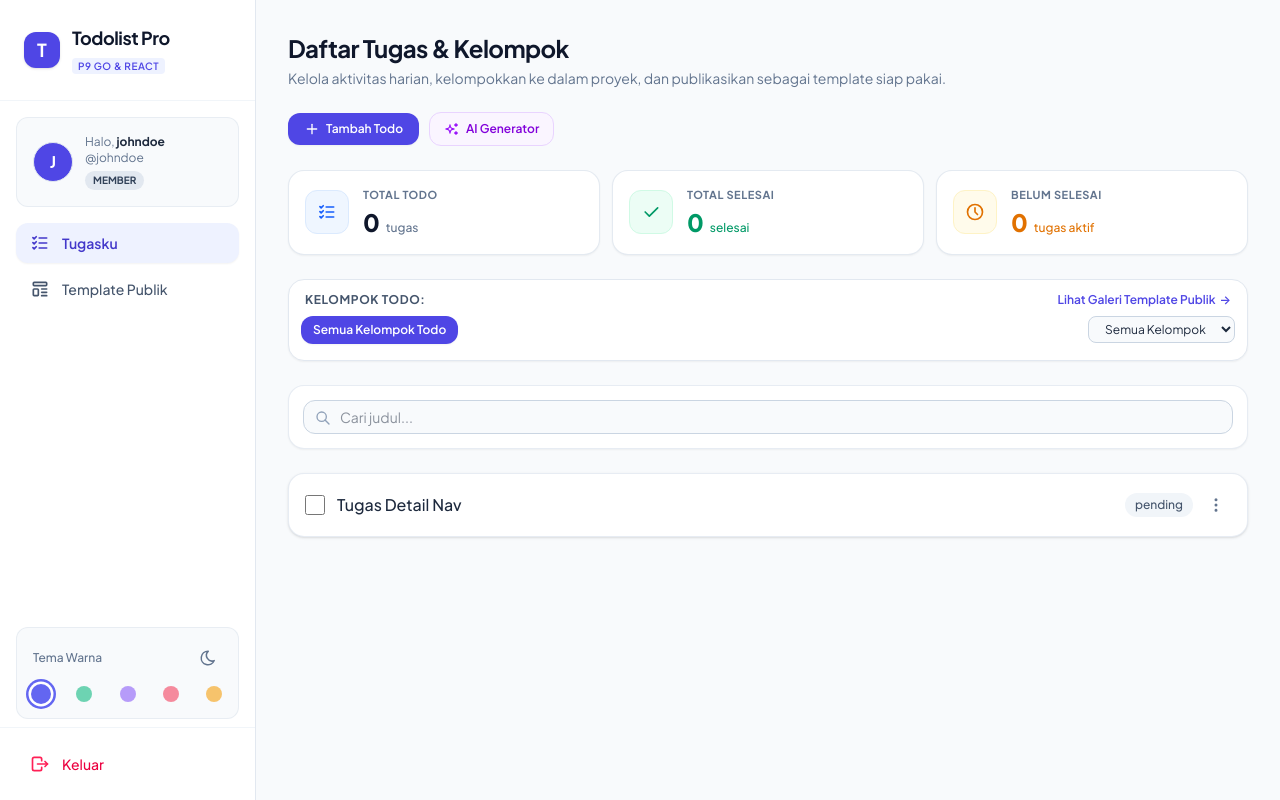
Scenario: App Integration › navigates away from detail page when clicking menu tabs
// Open detail
Click the text "Tugas Detail Nav". click: (399, 504)
box: 337,494 -> 462,514
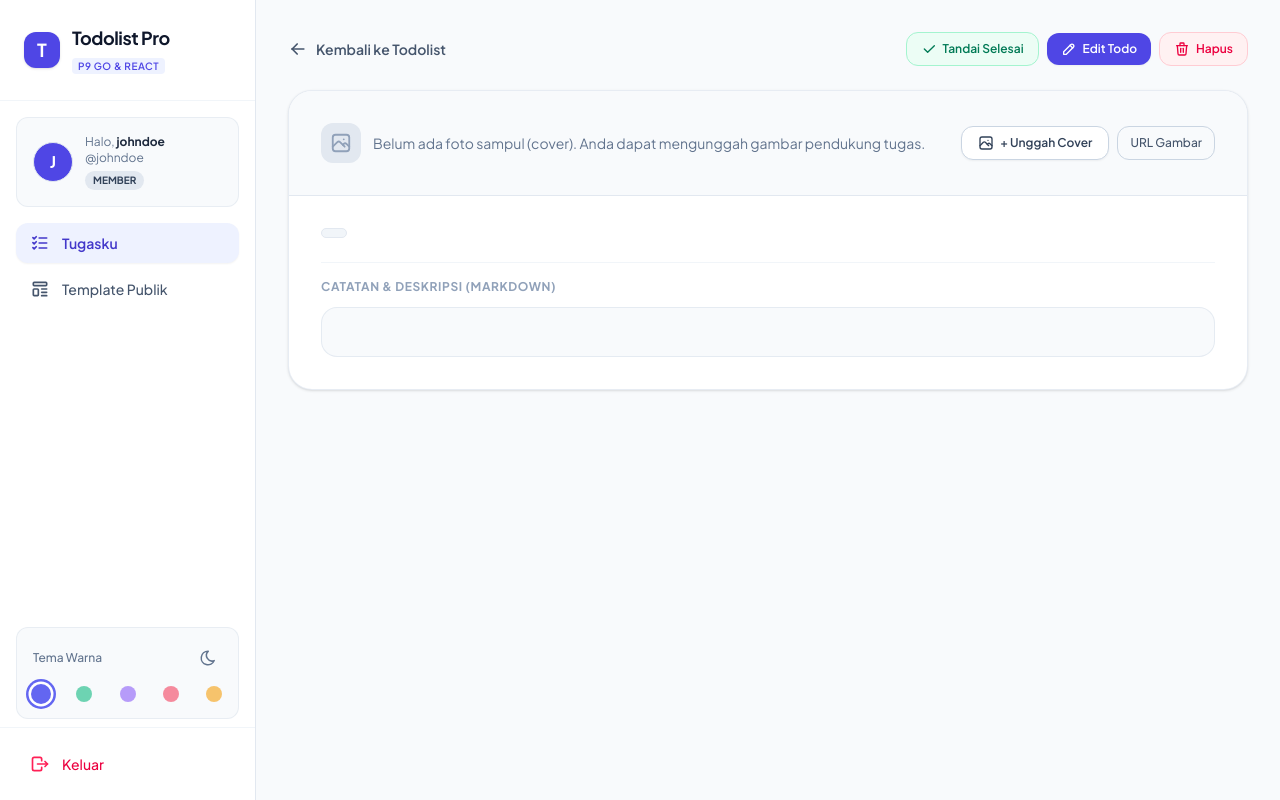
Expected: the element with test id "todo-detail-page" is shown, 288,32 -> 1248,390
// Click "Template Publik" in sidebar
Click the button "Template Publik". click: (128, 289)
box: 16,269 -> 239,309
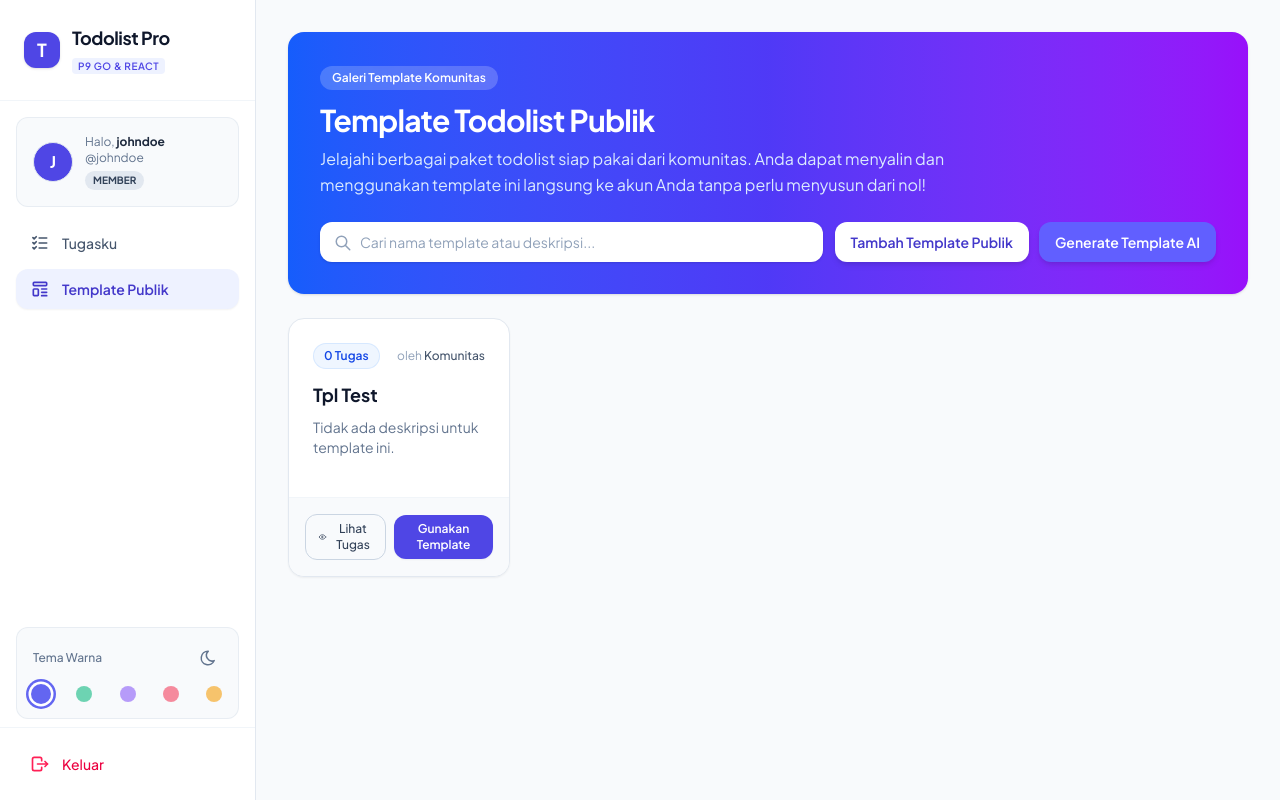
Expected: the element with test id "todo-detail-page" is gone
Expected: the element with test id "template-catalog" is shown, 288,32 -> 1248,577
// Click "Tugasku" in sidebar to return
Click the button "Tugasku". click: (128, 243)
box: 16,223 -> 239,263
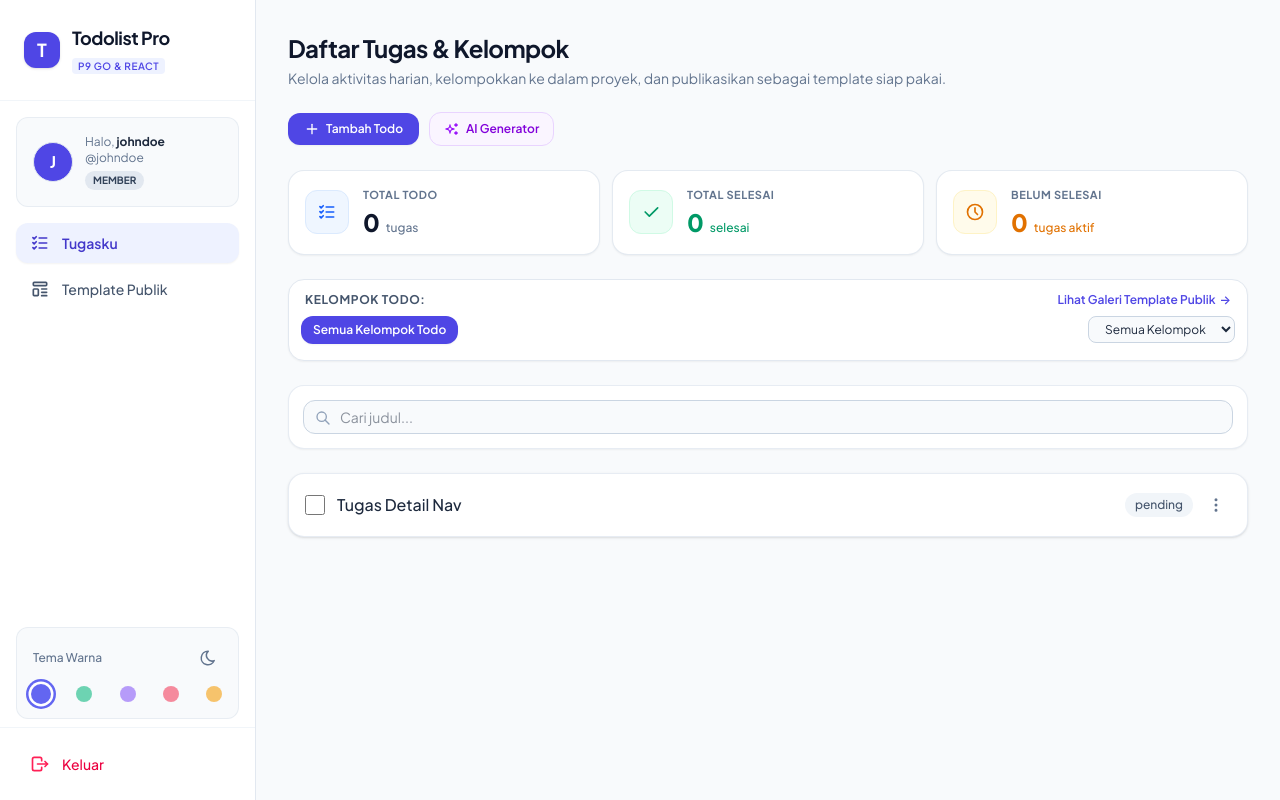
Expected: the text "Tugas Detail Nav" is shown, 337,494 -> 462,514
